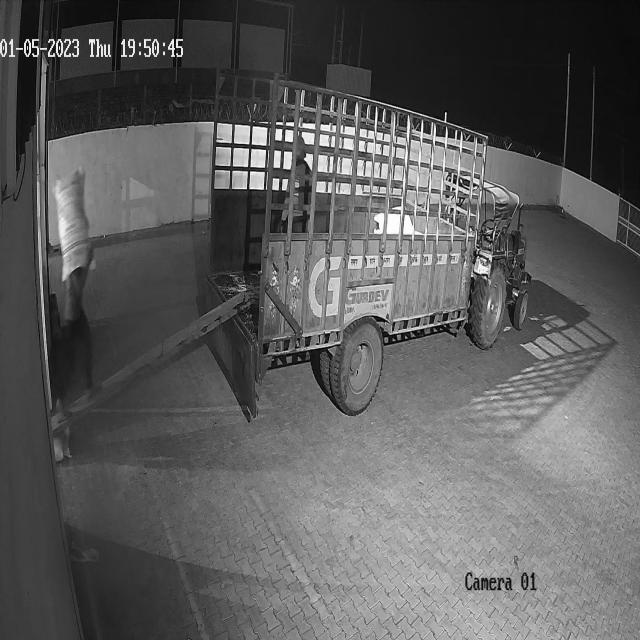sack: (53, 167, 96, 280)
